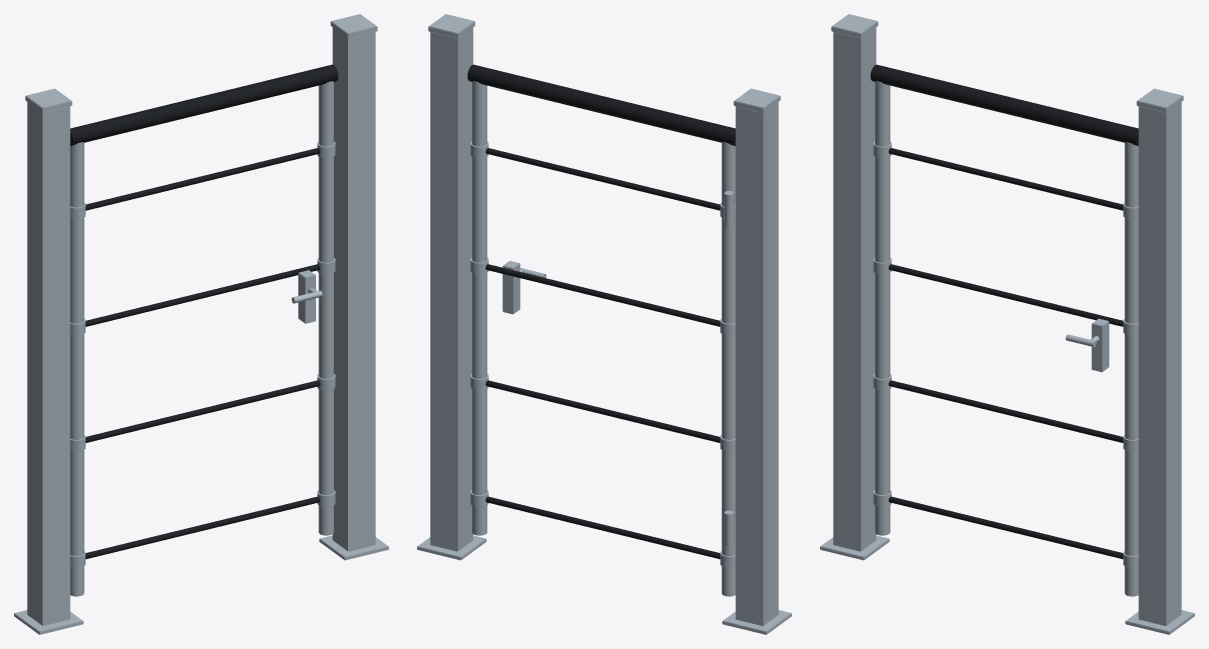
File: 04-pesacka.glb
3 renders of one model, left to right at view 1: azimuth 30°, elevation 25°; view 2: azimuth 150°, elevation 25°; view 3: azimuth 330°, elevation 25°, orthographic.
Visible parts, largest first — view 1: Stub_levi.012, Stub_desni.012, Ram_inox_uspravni.001, Ram_inox_uspravni, Ram_rukohvat, Ispuna_okrugla_precka, Ispuna_okrugla_precka.001, Ispuna_okrugla_precka.003, Ispuna_okrugla_precka.002, Okov_brava.012, Kapa_stuba.024, Kapa_stuba.025 (+2 smaller); view 2: Stub_levi.012, Stub_desni.012, Ram_inox_uspravni.001, Ram_inox_uspravni, Ram_rukohvat, Ispuna_okrugla_precka, Ispuna_okrugla_precka.001, Ispuna_okrugla_precka.003, Ispuna_okrugla_precka.002, Okov_brava.012, Kapa_stuba.024, Kapa_stuba.025 (+2 smaller); view 3: Stub_desni.012, Stub_levi.012, Ram_inox_uspravni, Ram_inox_uspravni.001, Ram_rukohvat, Ispuna_okrugla_precka, Ispuna_okrugla_precka.001, Ispuna_okrugla_precka.003, Ispuna_okrugla_precka.002, Okov_brava.012, Kapa_stuba.025, Kapa_stuba.024 (+2 smaller).
Boxes of the visible parts, x1,y1,x2,y2 form: Stub_levi.012: (27,102,70,625); Stub_desni.012: (332,27,375,551); Ram_inox_uspravni.001: (318,81,333,535); Ram_inox_uspravni: (70,142,84,596); Ram_rukohvat: (70,64,338,145); Ispuna_okrugla_precka: (85,496,320,559); Ispuna_okrugla_precka.001: (85,380,320,442); Ispuna_okrugla_precka.003: (85,148,320,210); Ispuna_okrugla_precka.002: (85,264,320,326); Okov_brava.012: (298,270,315,323); Kapa_stuba.024: (25,88,72,112); Kapa_stuba.025: (330,14,377,38); Stub_levi.012: (735,102,778,625); Stub_desni.012: (430,27,473,551); Ram_inox_uspravni.001: (472,81,487,535); Ram_inox_uspravni: (721,142,735,596); Ram_rukohvat: (467,64,735,145); Ispuna_okrugla_precka: (485,496,720,559); Ispuna_okrugla_precka.001: (485,380,720,442); Ispuna_okrugla_precka.003: (485,148,720,210); Ispuna_okrugla_precka.002: (485,264,720,326); Okov_brava.012: (502,261,520,314); Kapa_stuba.024: (733,88,780,112); Kapa_stuba.025: (428,14,475,38); Stub_desni.012: (1138,102,1181,625); Stub_levi.012: (833,27,876,551); Ram_inox_uspravni: (875,81,890,535); Ram_inox_uspravni.001: (1124,142,1138,596); Ram_rukohvat: (870,64,1138,145); Ispuna_okrugla_precka: (888,496,1123,559); Ispuna_okrugla_precka.001: (888,380,1123,442); Ispuna_okrugla_precka.003: (888,148,1123,210); Ispuna_okrugla_precka.002: (888,264,1123,326); Okov_brava.012: (1091,318,1109,372); Kapa_stuba.025: (1136,88,1183,112); Kapa_stuba.024: (831,14,878,38).
Bounding box in the file's own units: 1.26 × 1.8 × 0.19.
